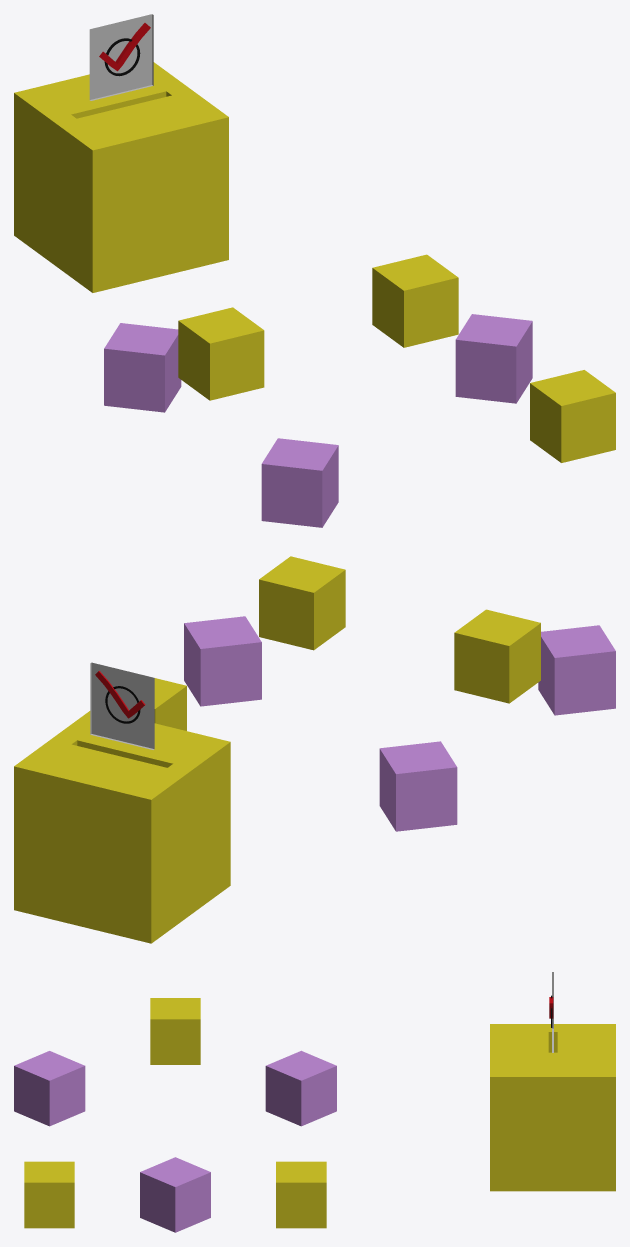
Rendered from framing_01.glb.
The picture shows the model from 3 angles, top to bottom: view 1: azimuth 30°, elevation 25°; view 2: azimuth 150°, elevation 25°; view 3: azimuth 270°, elevation 25°; orthographic projection. The views are drawn at different scales.
Visible parts, largest first — view 1: Cube, GEO.Cubes.006, GEO.Cubes, GEO.Cubes.007, GEO.Cubes.004, GEO.Cubes.005, GEO.Cubes.003, Cube.001; view 2: Cube, GEO.Cubes.006, GEO.Cubes.007, GEO.Cubes.003, GEO.Cubes.004, GEO.Cubes.005, Cube.001, GEO.Cubes; view 3: Cube, GEO.Cubes.003, GEO.Cubes.005, GEO.Cubes.004, GEO.Cubes, GEO.Cubes.007, GEO.Cubes.006.
Boxes of the visible parts, box(x1,y1,x2,y2) form: Cube: box(14, 62, 228, 292); GEO.Cubes.006: box(178, 307, 264, 400); GEO.Cubes: box(372, 254, 458, 347); GEO.Cubes.007: box(530, 370, 615, 462); GEO.Cubes.004: box(455, 314, 532, 403); GEO.Cubes.005: box(261, 438, 338, 527); GEO.Cubes.003: box(104, 323, 181, 412); Cube.001: box(89, 14, 153, 100); Cube: box(14, 711, 230, 943); GEO.Cubes.006: box(454, 609, 540, 703); GEO.Cubes.007: box(259, 556, 345, 650); GEO.Cubes.003: box(379, 741, 457, 831); GEO.Cubes.004: box(184, 616, 261, 706); GEO.Cubes.005: box(538, 625, 615, 715); Cube.001: box(90, 662, 154, 749); GEO.Cubes: box(154, 678, 186, 730); Cube: box(490, 1024, 615, 1191); GEO.Cubes.003: box(265, 1050, 336, 1126); GEO.Cubes.005: box(14, 1051, 85, 1126); GEO.Cubes.004: box(140, 1157, 210, 1232); GEO.Cubes: box(276, 1161, 326, 1228); GEO.Cubes.007: box(24, 1161, 74, 1228); GEO.Cubes.006: box(150, 998, 200, 1064).
Size of what is drawn, in the model's own units: 1.28 by 0.7902 by 2.39.
